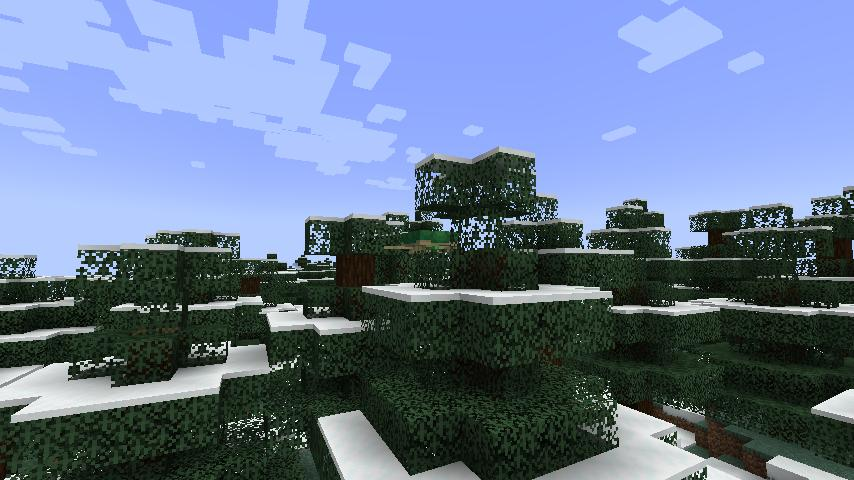turtle: (382, 226, 463, 256)
